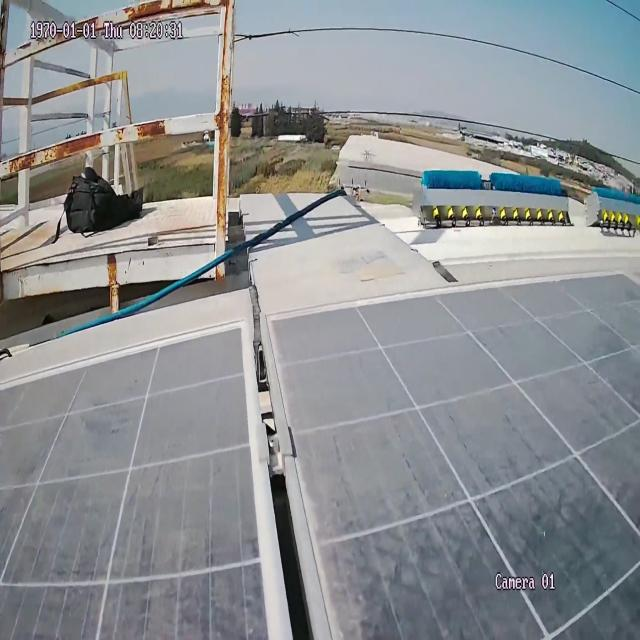interior panel: (192, 290, 383, 640)
outher panel: (0, 21, 640, 359)
